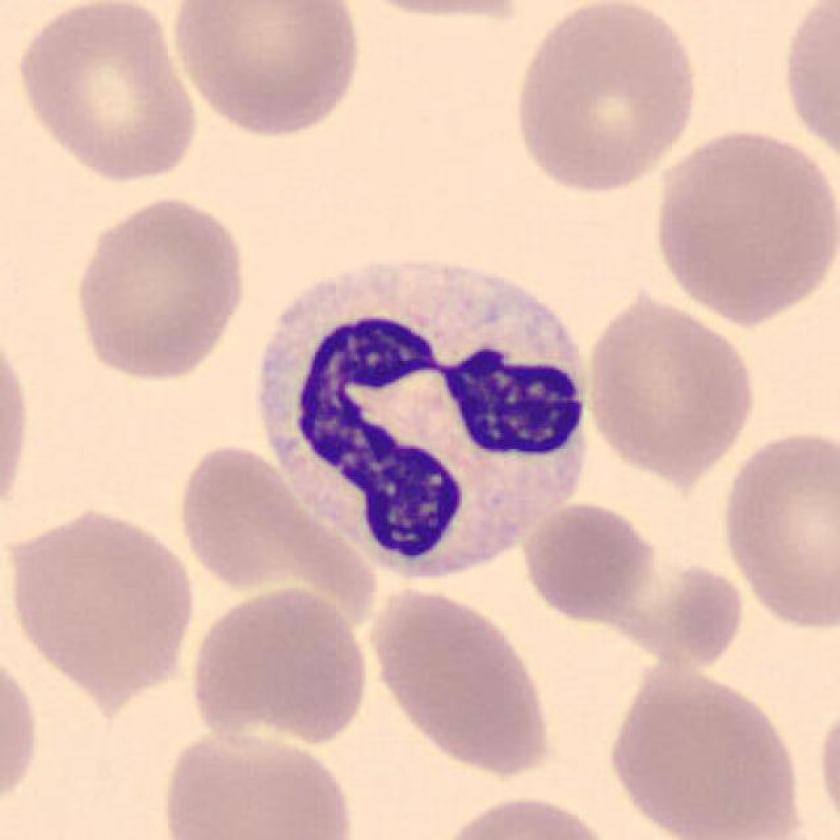neutrophil: (262, 266, 588, 569)
